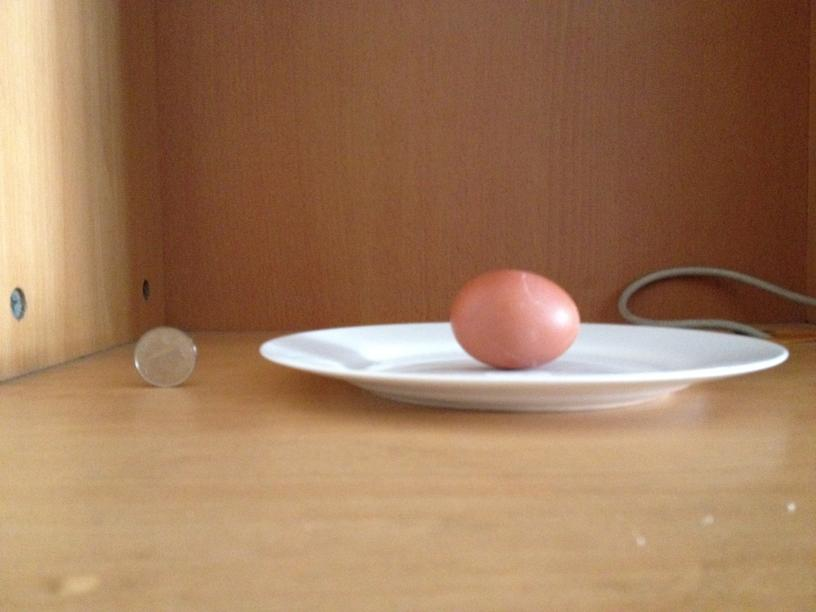coin: (135, 327, 197, 386)
egg: (449, 271, 581, 369)
